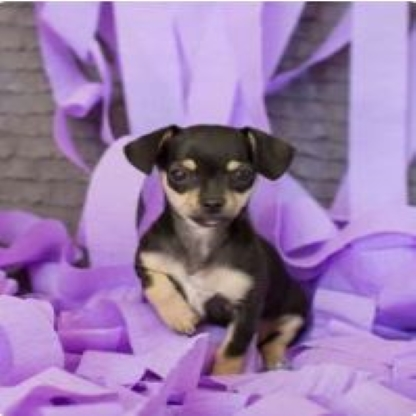chihuahua: (124, 124, 312, 375)
